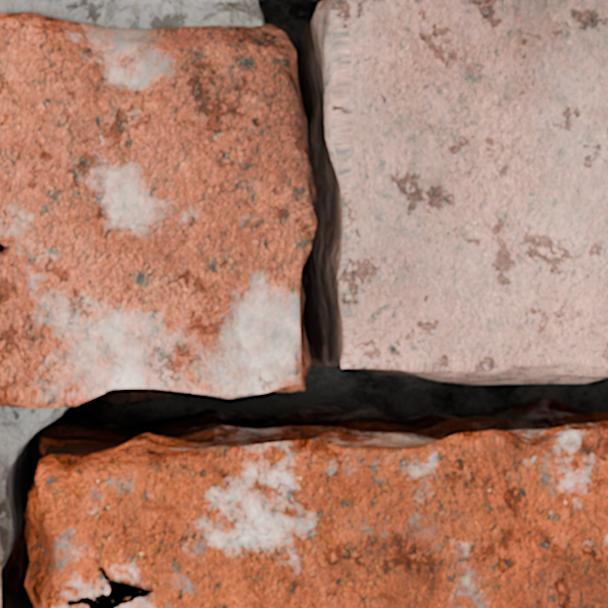brick: (0, 13, 315, 407), (321, 0, 607, 377), (31, 425, 607, 607)
crack: (0, 0, 607, 607), (65, 565, 154, 607), (0, 243, 9, 258)
